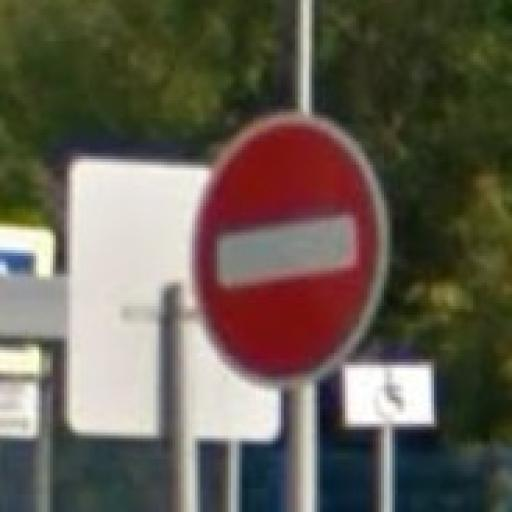traffic_sign: (193, 113, 391, 389)
